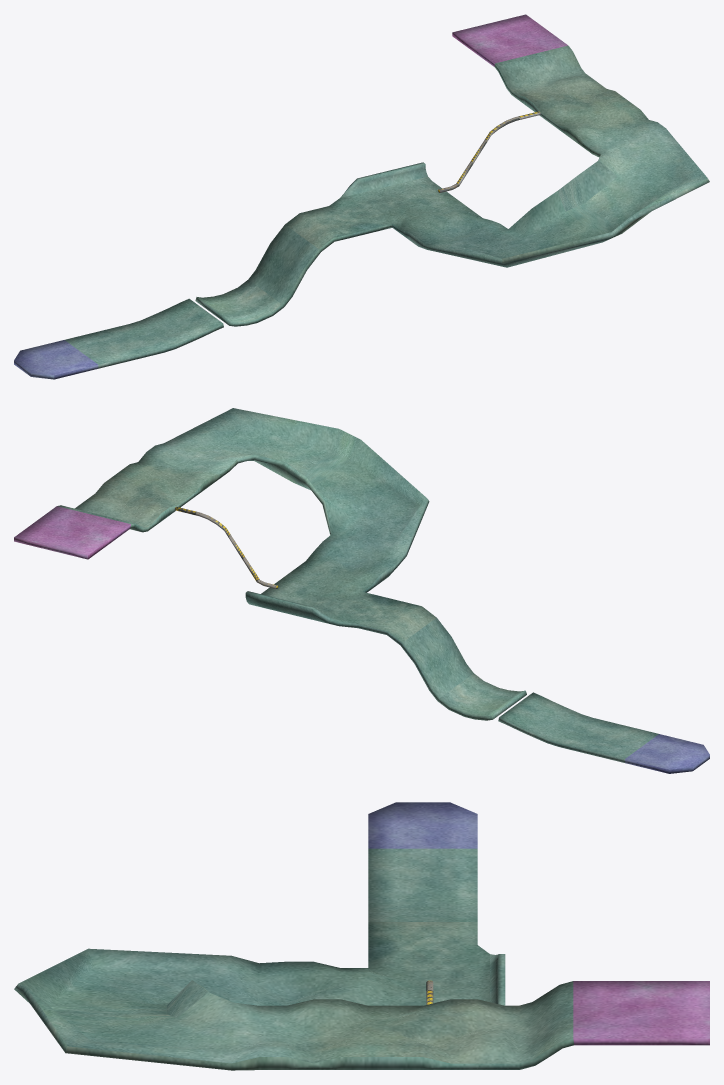
Rendered from Level4.dae.
3 renders of one model, top to bottom at view 1: azimuth 30°, elevation 25°; view 2: azimuth 150°, elevation 25°; view 3: azimuth 270°, elevation 25°, orthographic. The views are drawn at different scales.
Parts seen in each view (by area): view 1: Plane; view 2: Plane; view 3: Plane.
Boxes of the visible parts, x1,y1,x2,y2 form: Plane: (14,14,709,379); Plane: (14,408,709,773); Plane: (14,802,709,1070).
Size of what is drawn, in the model's own units: 80.71 by 50.94 by 19.03.
Materials: 4 (4 with a texture image).
